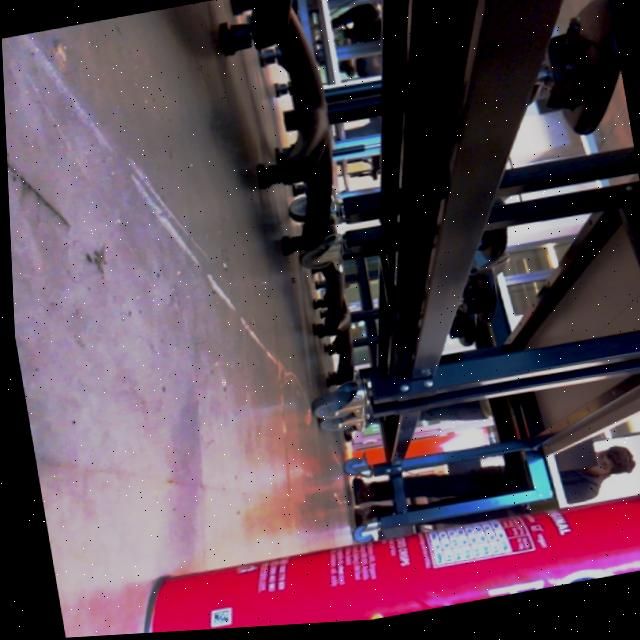redpringles: (92, 475, 640, 637)
